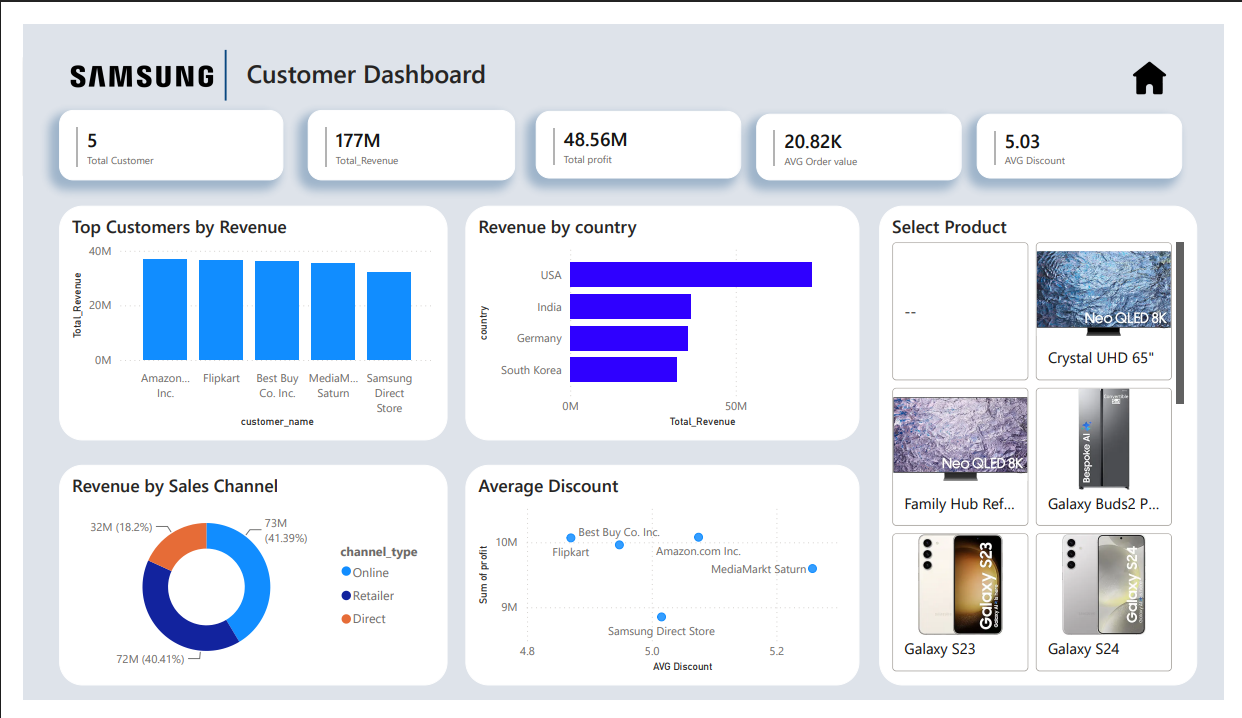

What the dashboard file says about the page in this screenshot:
{"tool":"powerbi","page":{"name":"Customer","canvas":[1280,720],"ordinal":5},"visuals":[{"type":"image","box":[38.9,22.2,169.2,64.7],"z":1000},{"type":"shape","box":[139.7,27.2,153,53.5],"z":2000},{"type":"shape","title":"Customer Dashboard","box":[239.5,33.2,307.3,43.3],"z":3000},{"type":"image","box":[1165.8,21.6,70.7,70.7],"z":4000},{"type":"cardVisual","fields":{"Data":["Measures Table.Total_Revenue"]},"box":[304.4,90.9,220.7,75],"z":5000},{"type":"cardVisual","fields":{"Data":["Sum(fact_Sales.profit)"]},"box":[546.8,92.3,219.3,72.1],"z":6000},{"type":"cardVisual","fields":{"Data":["Inventory.AVG Order value"]},"box":[782,95.2,219.3,70.7],"z":7000},{"type":"cardVisual","fields":{"Data":["Inventory.AVG Discount"]},"box":[1017.1,95.2,219.3,69.3],"z":8000},{"type":"cardVisual","fields":{"Data":["Inventory.Total Customer"]},"box":[39,90.9,239.5,75],"z":9000},{"type":"columnChart","title":"Top Customers by Revenue","fields":{"Category":["dim_Customer.customer_name"],"Y":["Measures Table.Total_Revenue"]},"box":[39,193.3,414.1,249.6],"z":10000},{"type":"barChart","title":"Revenue by country","fields":{"Category":["dim_Customer.country"],"Y":["Measures Table.Total_Revenue"]},"box":[471.8,193.3,419.8,249.6],"z":11000},{"type":"donutChart","title":"Revenue by Sales Channel","fields":{"Y":["Measures Table.Total_Revenue"],"Category":["dim_Customer.channel_type"]},"box":[39,468.9,414.1,235.2],"z":12000},{"type":"scatterChart","title":"Average Discount","fields":{"X":["Inventory.AVG Discount"],"Y":["Sum(fact_Sales.profit)"],"Category":["dim_Customer.customer_name"]},"box":[471.8,468.9,419.8,235.2],"z":13000},{"type":"advancedSlicerVisual","title":"Select Product","fields":{"Values":["dim_Product.product_name"]},"box":[913.3,193.3,339,510.7],"z":14000}]}

Visuals, with their boxes in screenshot pixels (x1, y1, x2, y2), scaled from the page's 1280x720 canvas onto the 1242x718 screenshot:
image: BBox(38, 22, 202, 87)
shape: BBox(136, 27, 284, 80)
"Customer Dashboard" shape: BBox(232, 33, 531, 76)
image: BBox(1131, 22, 1200, 92)
cardVisual - Measures Table.Total_Revenue: BBox(295, 91, 510, 165)
cardVisual - Sum(fact_Sales.profit): BBox(531, 92, 743, 164)
cardVisual - Inventory.AVG Order value: BBox(759, 95, 972, 165)
cardVisual - Inventory.AVG Discount: BBox(987, 95, 1200, 164)
cardVisual - Inventory.Total Customer: BBox(38, 91, 270, 165)
"Top Customers by Revenue" columnChart: BBox(38, 193, 440, 442)
"Revenue by country" barChart: BBox(458, 193, 865, 442)
"Revenue by Sales Channel" donutChart: BBox(38, 468, 440, 702)
"Average Discount" scatterChart: BBox(458, 468, 865, 702)
"Select Product" advancedSlicerVisual: BBox(886, 193, 1215, 702)
